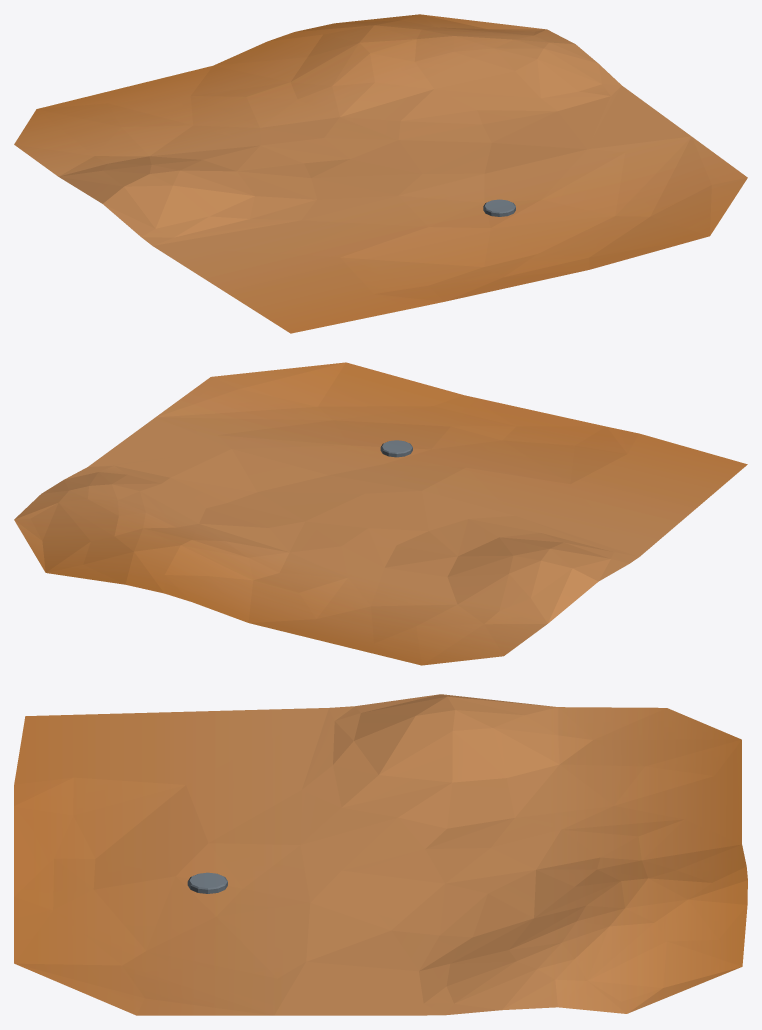
The model's file is planestand.fbx.
3 renders of one model, top to bottom at view 1: azimuth 30°, elevation 25°; view 2: azimuth 150°, elevation 25°; view 3: azimuth 270°, elevation 25°, orthographic. The views are drawn at different scales.
Visible parts, largest first — view 1: Group56279; view 2: Group56279; view 3: Group56279, Cylinder001.
Boxes of the visible parts, <box> form: Group56279: <box>14,14,747,333</box>; Group56279: <box>14,362,747,665</box>; Group56279: <box>14,694,747,1015</box>; Cylinder001: <box>187,872,227,893</box>.
Size of the model in its own units: 1212 by 77.95 by 1212.
